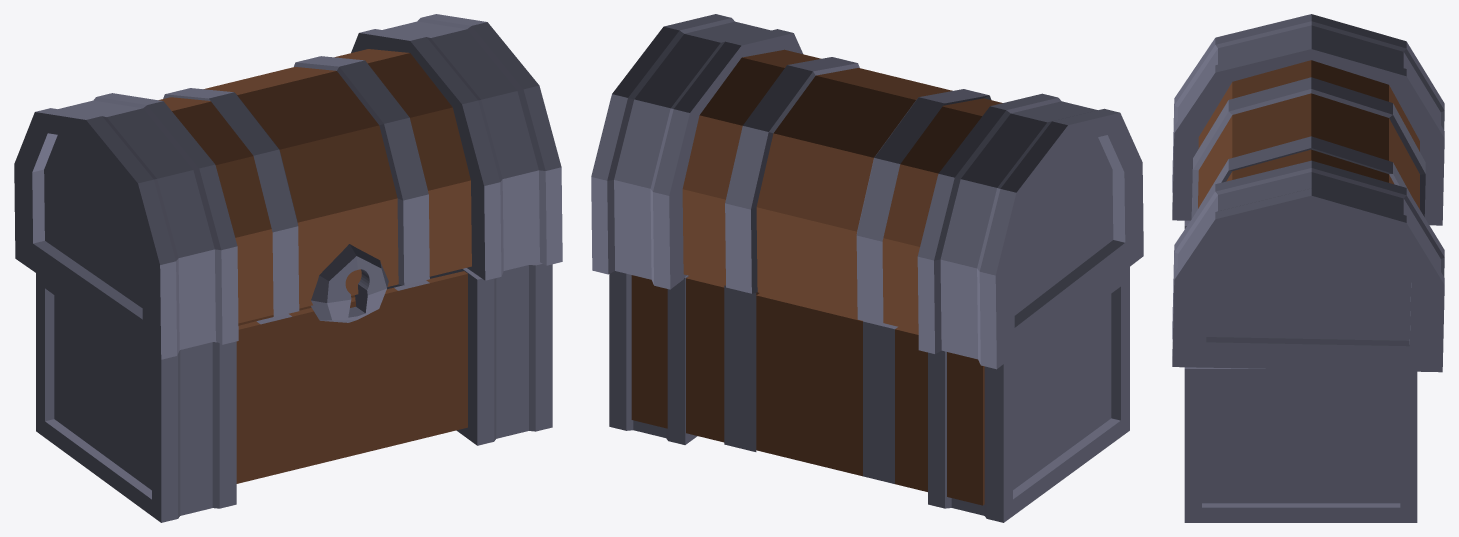
Rendered from Chest.fbx.
3 renders of one model, left to right at view 1: azimuth 30°, elevation 25°; view 2: azimuth 150°, elevation 25°; view 3: azimuth 270°, elevation 25°, orthographic. The views are drawn at different scales.
Visible parts, largest first — view 1: KisteTop, KisteBund; view 2: KisteTop, KisteBund; view 3: KisteTop, KisteBund.
Boxes of the visible parts, left/top/right/bottom form: KisteTop: left=14, top=14, right=562, bottom=359; KisteBund: left=36, top=262, right=552, bottom=522; KisteTop: left=591, top=14, right=1143, bottom=369; KisteBund: left=609, top=267, right=1129, bottom=522; KisteTop: left=1172, top=14, right=1444, bottom=372; KisteBund: left=1184, top=220, right=1417, bottom=522.
Bounding box in the file's own units: 97.57 × 82.34 × 61.85.
